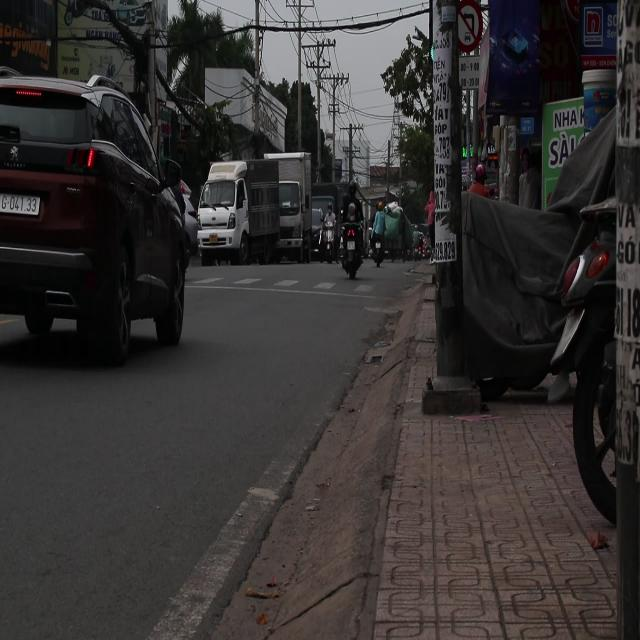car: (3, 72, 194, 366)
motorbike: (336, 212, 362, 286), (316, 204, 337, 264)
truck: (200, 156, 313, 268)
